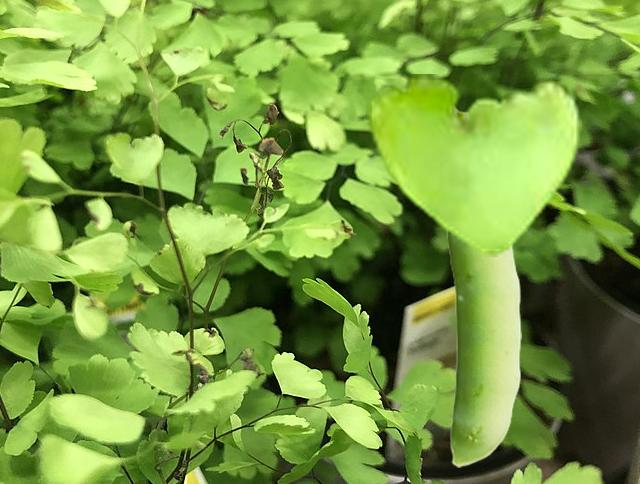pea: (444, 108, 520, 466)
